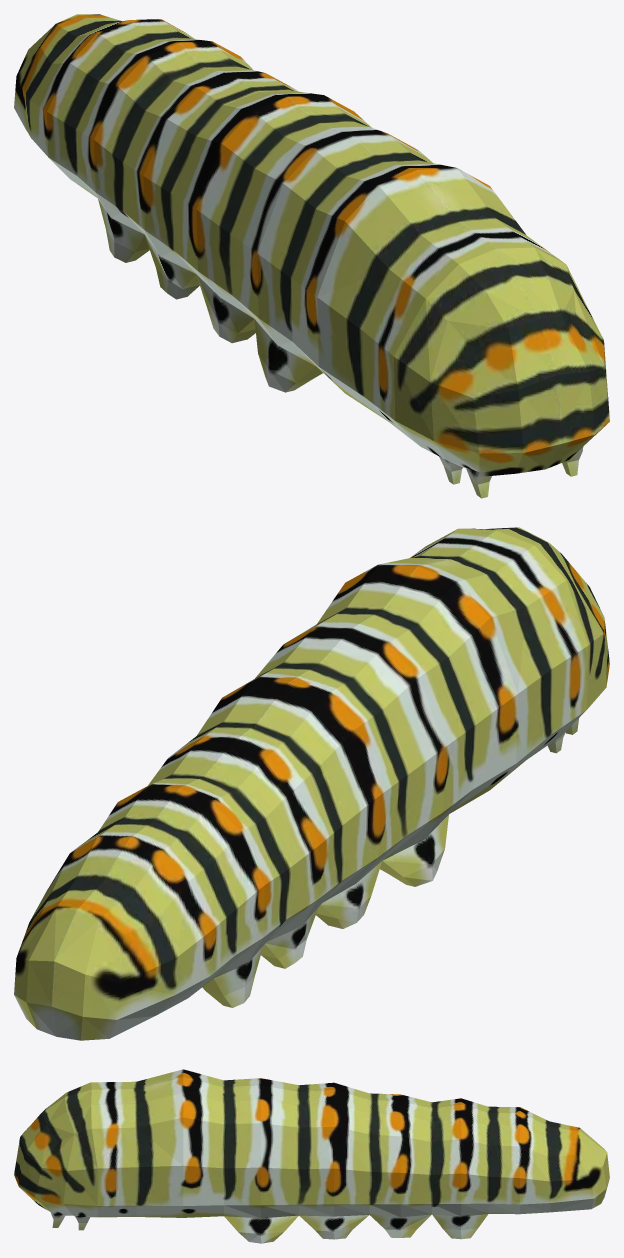
The model's file is 64T47O5VHAB.glb.
3 views of the same model, one above another, from view 1: azimuth 30°, elevation 25°; view 2: azimuth 150°, elevation 25°; view 3: azimuth 270°, elevation 25° (orthographic). The views are drawn at different scales.
Visible parts, largest first — view 1: Node; view 2: Node; view 3: Node.
Boxes of the visible parts, bbox=[...] form: Node: bbox=[14, 14, 609, 498]; Node: bbox=[14, 527, 609, 1040]; Node: bbox=[14, 1069, 609, 1243].
Size of the model in its own units: 0.8528 by 0.9998 by 3.76.
1 material, 1 textured.
